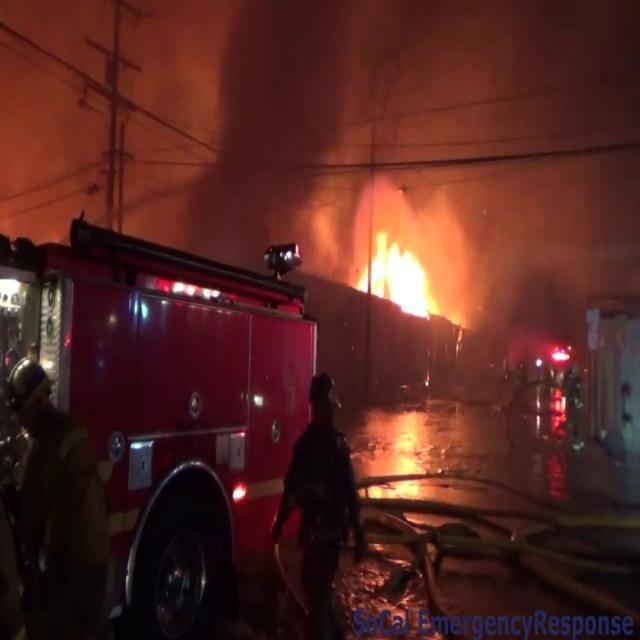Fire: (354, 220, 446, 318)
Smoke: (148, 1, 638, 267)
